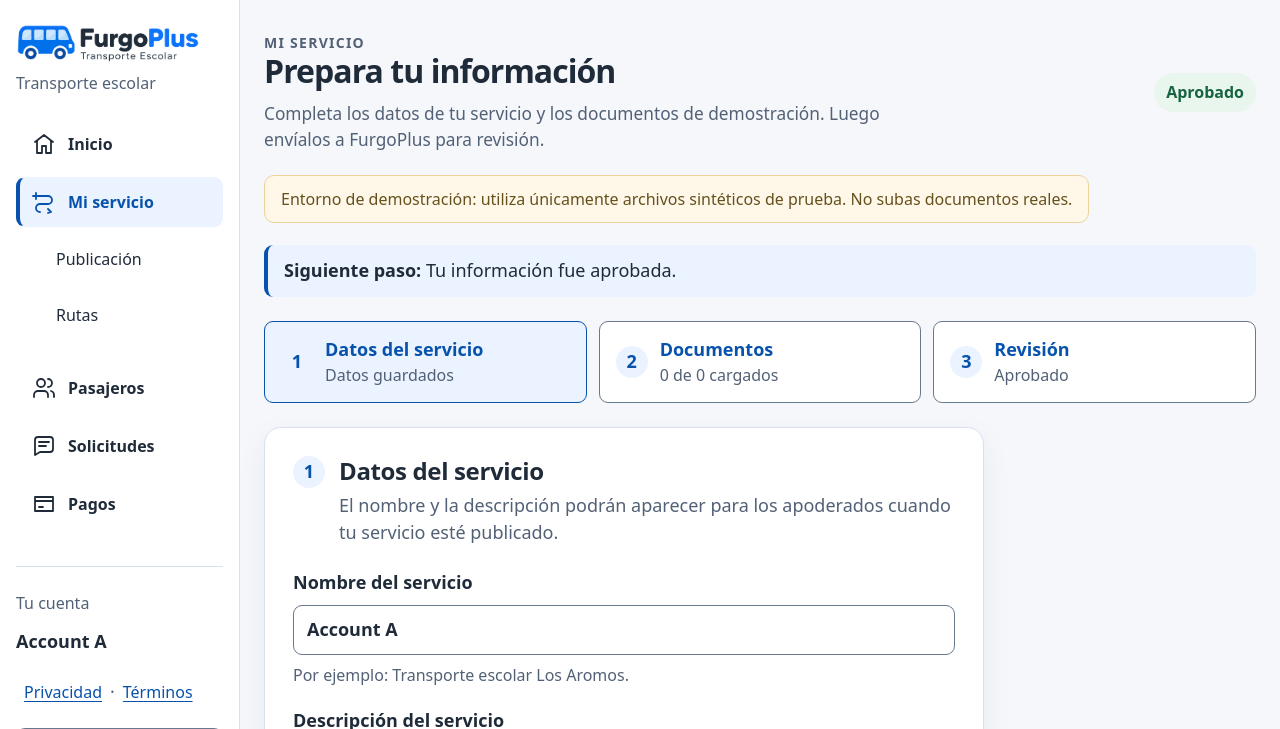
permission_denied does not expire a loaded driver's session or erase its summary
This screenshot has width=1280, height=729.
Click the button "Inicio" at (120,144), box [16,119,223,169]
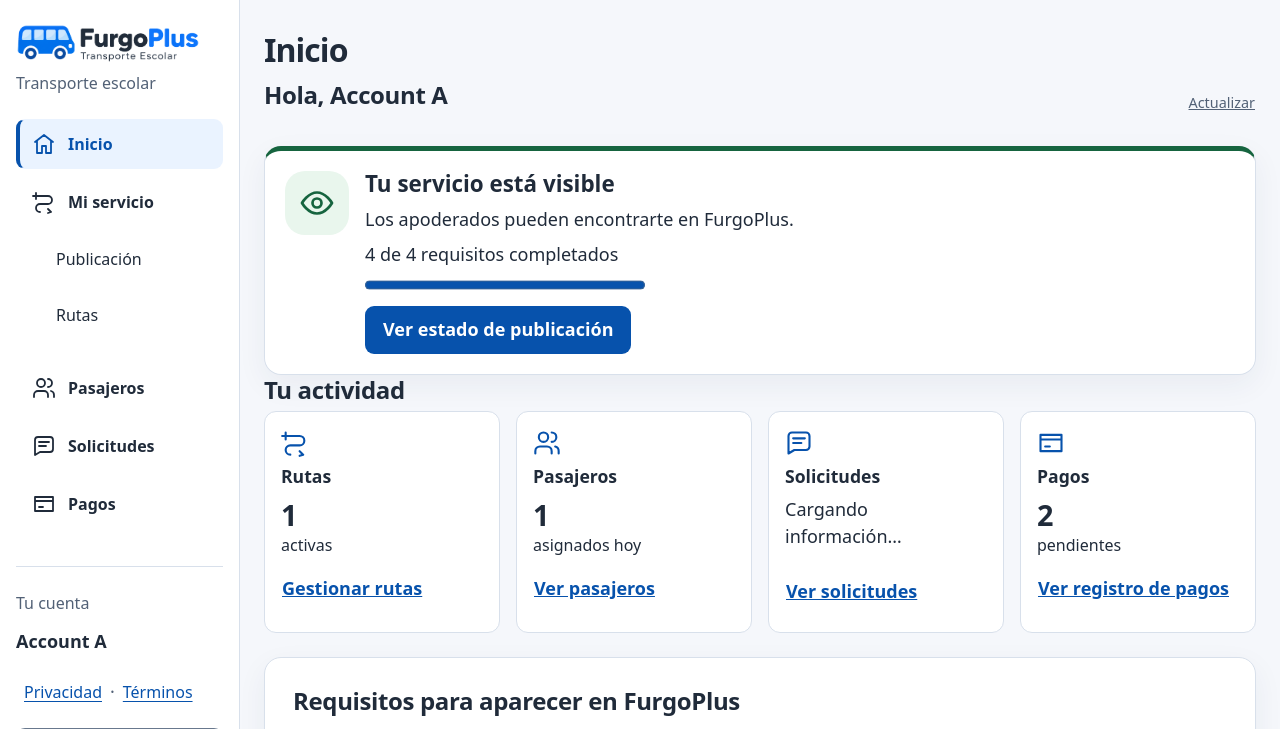
Click the button "Actualizar" at (1222,104), box [1188,80,1256,128]
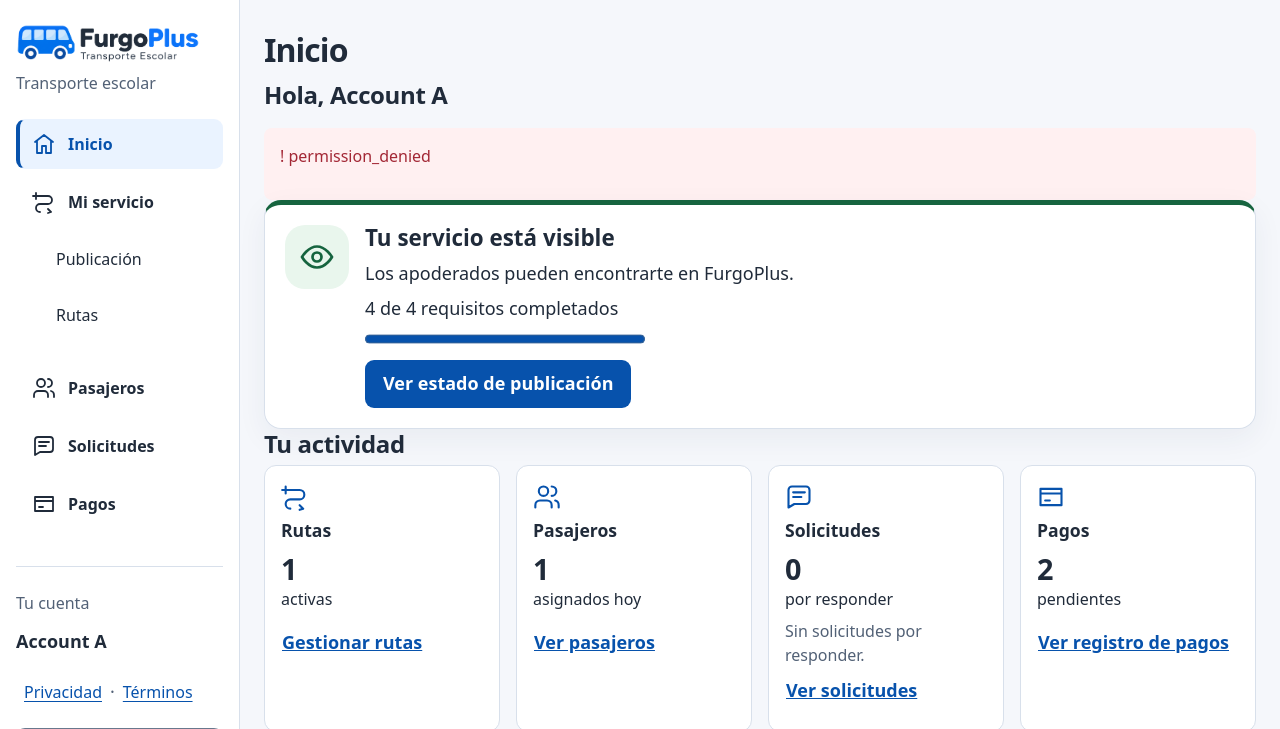
expect the text "Account A" is shown: met, box [16,629,107,653]
expect the message "! permission_denied" is shown: met, box [264,128,1256,200]
